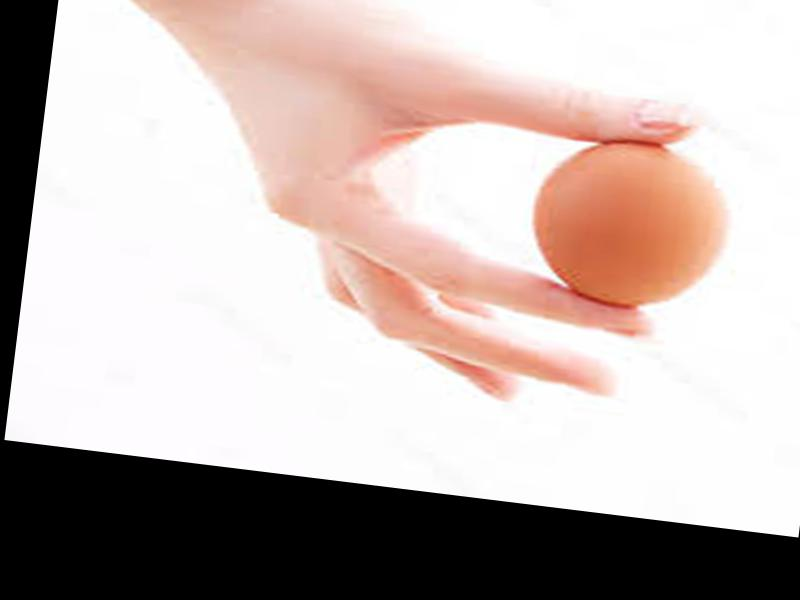Eggs: (527, 129, 734, 319)
